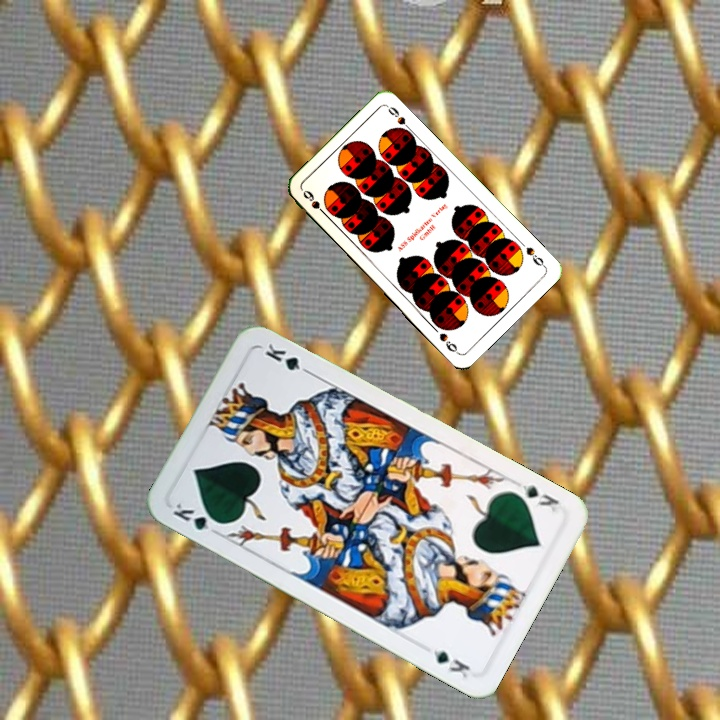GK: (169, 498, 225, 538), (508, 480, 562, 515)
S9: (299, 186, 331, 220), (522, 243, 548, 270)
